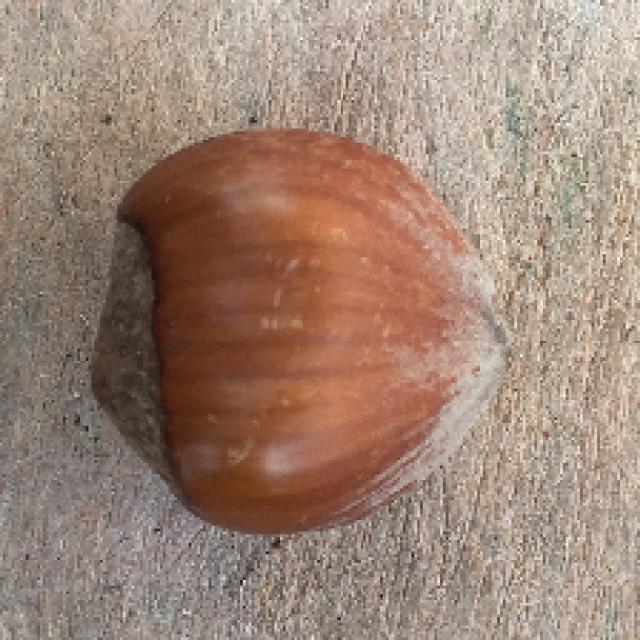qualityHazelnut: (86, 122, 514, 537)
